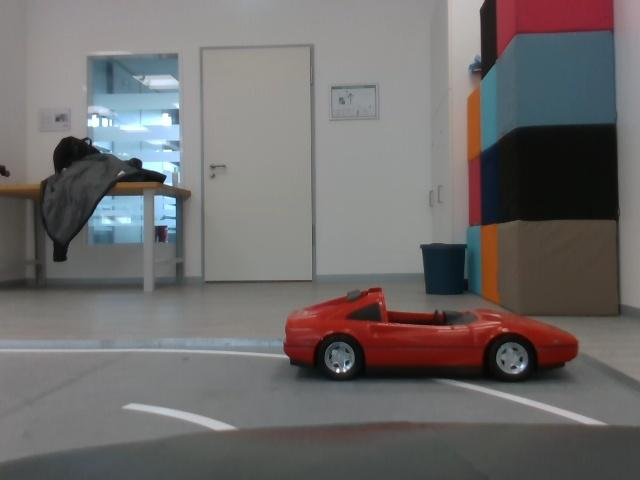car: (271, 287, 589, 388)
